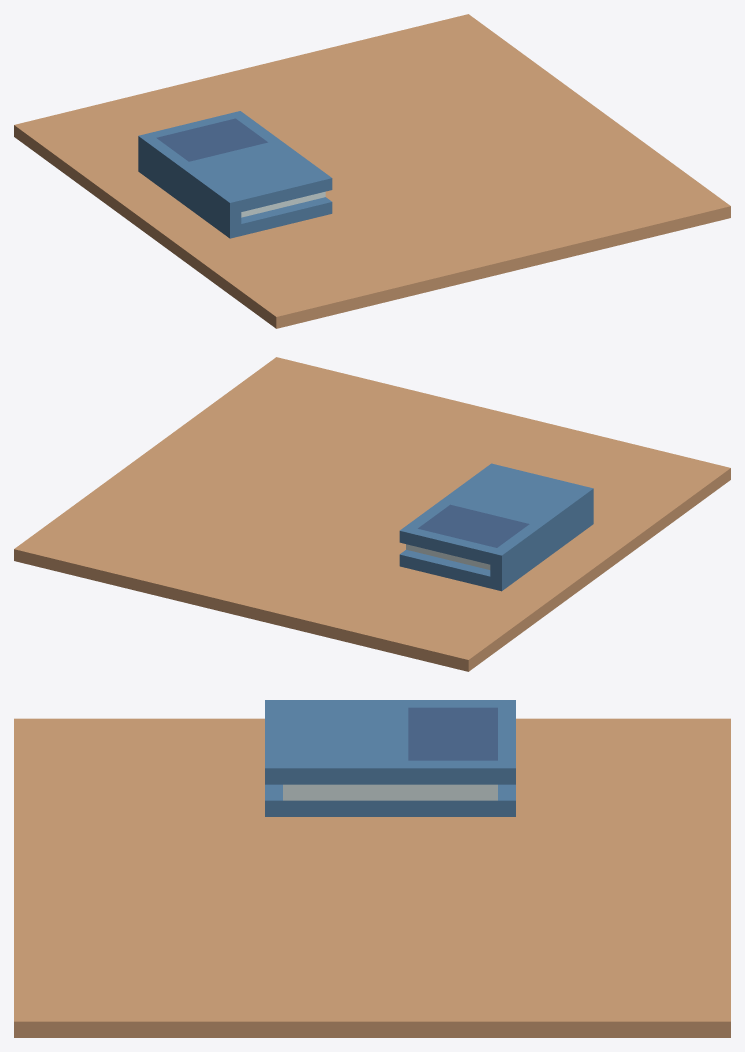
The model's file is cards_world.gltf.
3 renders of one model, top to bottom at view 1: azimuth 30°, elevation 25°; view 2: azimuth 150°, elevation 25°; view 3: azimuth 270°, elevation 25°, orthographic. The views are drawn at different scales.
Parts seen in each view (by area): view 1: world_cards; view 2: world_cards; view 3: world_cards.
Boxes of the visible parts, x1,y1,x2,y2 form: world_cards: [14, 14, 730, 328]; world_cards: [14, 357, 730, 671]; world_cards: [14, 700, 730, 1037].
Size of the model in its own units: 4 by 0.4 by 4.
Materials: 1 (1 with a texture image).
